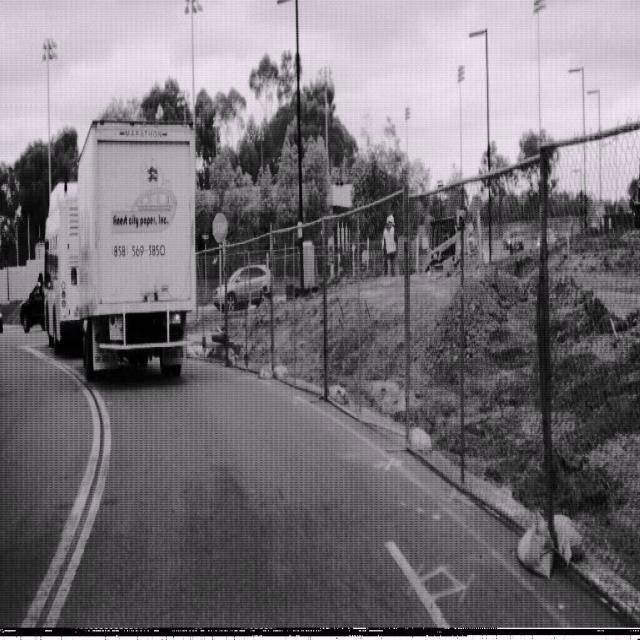stop: (212, 211, 228, 243)
